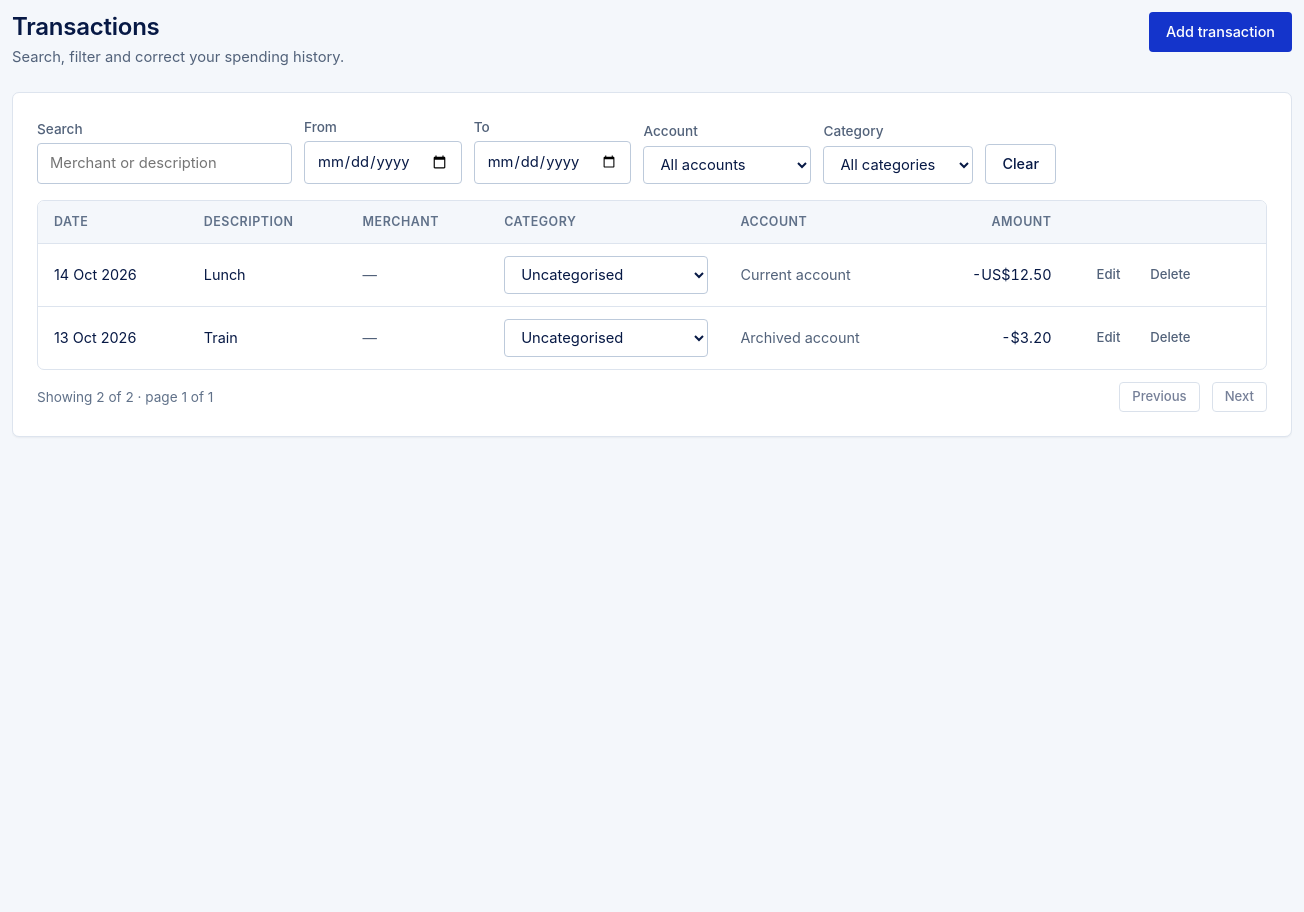
it: transaction controls › loads the selected transaction when switching between open edit forms
Click the button with aria-label "Edit Lunch": (1108, 275) [1084,260,1133,290]
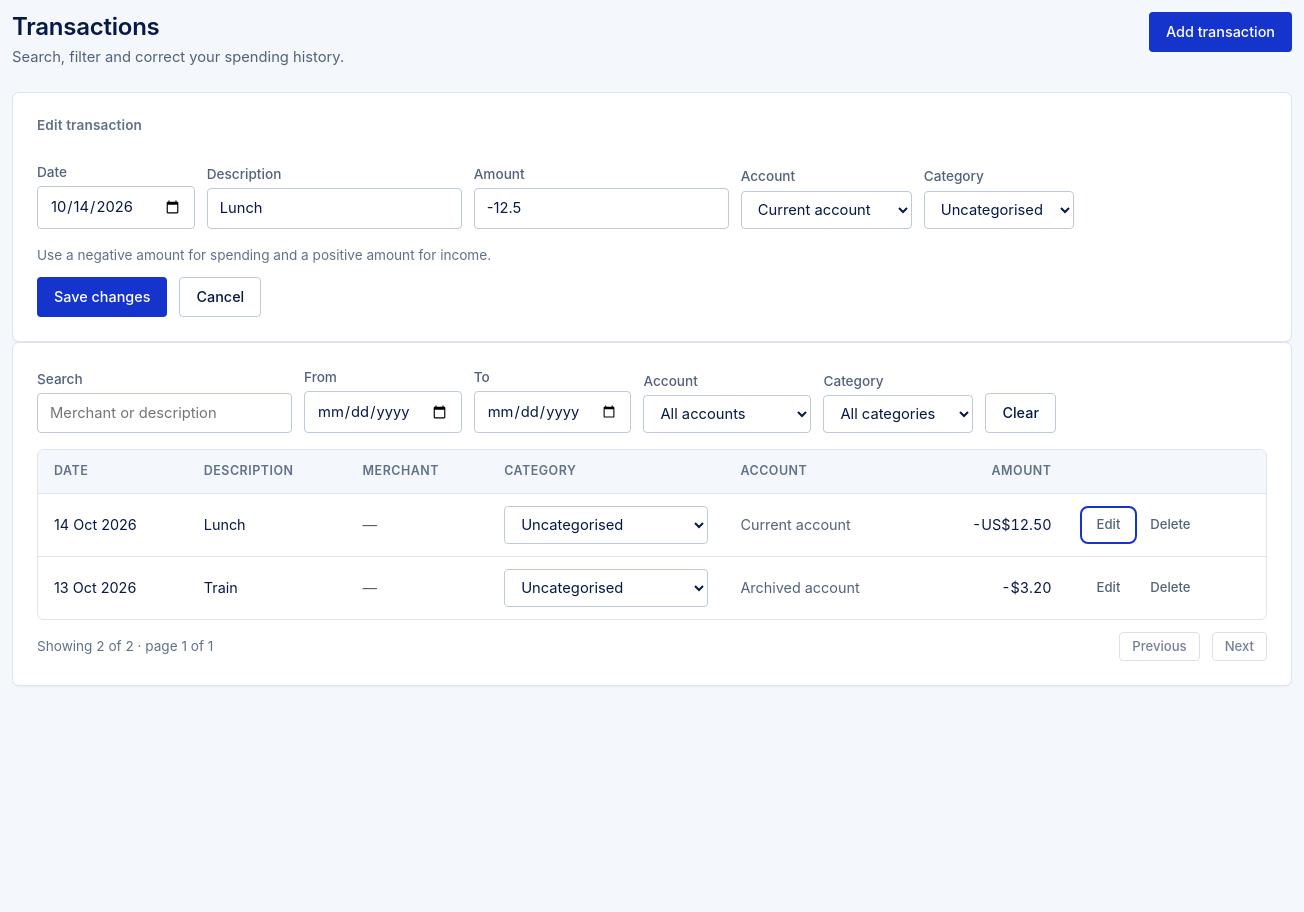
Replace the text in the field labelled "Description" with "Unsaved draft": (334, 209) [207,188,462,229]
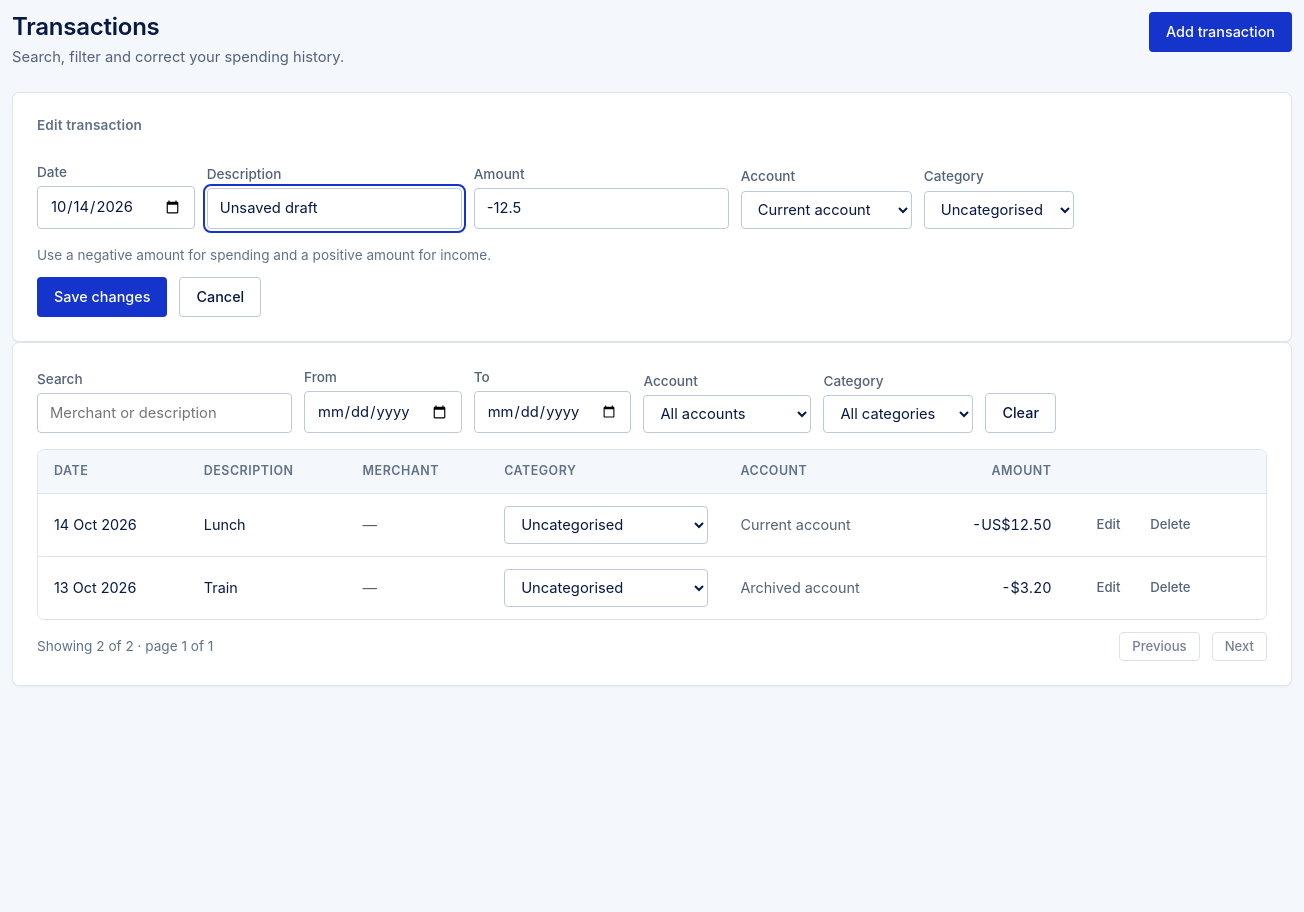
Click the button with aria-label "Edit Train": (1108, 588) [1084,573,1133,603]
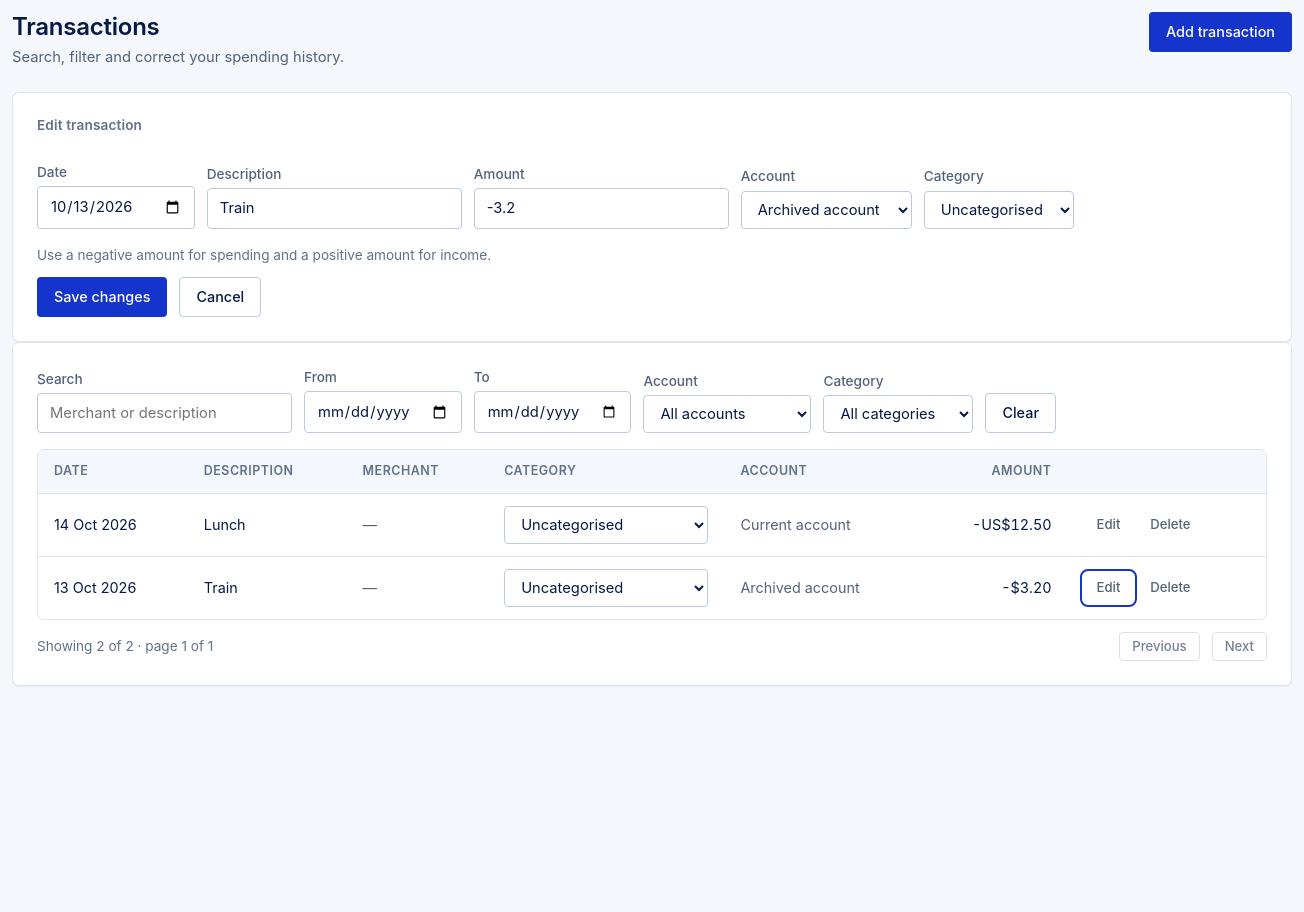
Expected: the field labelled "Description" holds "Train", [207,188,462,229]
Expected: the number field labelled "Amount" holds "-3.2", [474,188,729,229]
Expected: the dropdown with id "form-account" shows "Archived account", [741,190,912,228]
